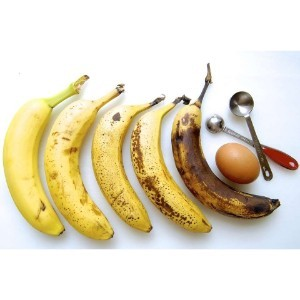banana_brain food: (16, 108, 215, 231)
